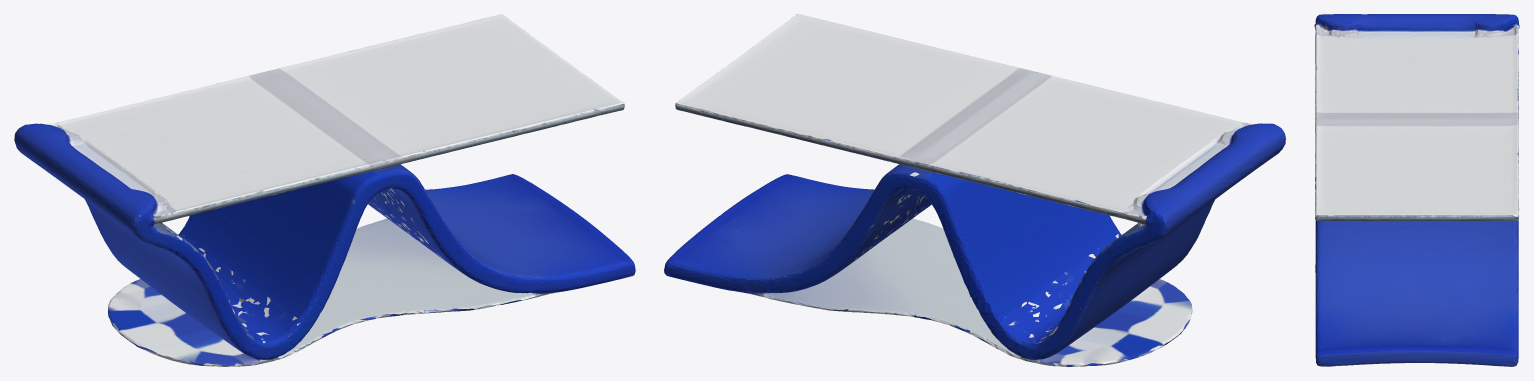
3 renders of one model, left to right at view 1: azimuth 30°, elevation 25°; view 2: azimuth 150°, elevation 25°; view 3: azimuth 270°, elevation 25°, orthographic. The views are drawn at different scales.
Parts seen in each view (by area): view 1: world; view 2: world; view 3: world.
Boxes of the visible parts, <box> form: world: <box>14,14,635,366</box>; world: <box>664,14,1285,366</box>; world: <box>1314,14,1519,366</box>.
Bounding box in the file's own units: 2 × 0.7067 × 0.8478.
1 material, 1 textured.
